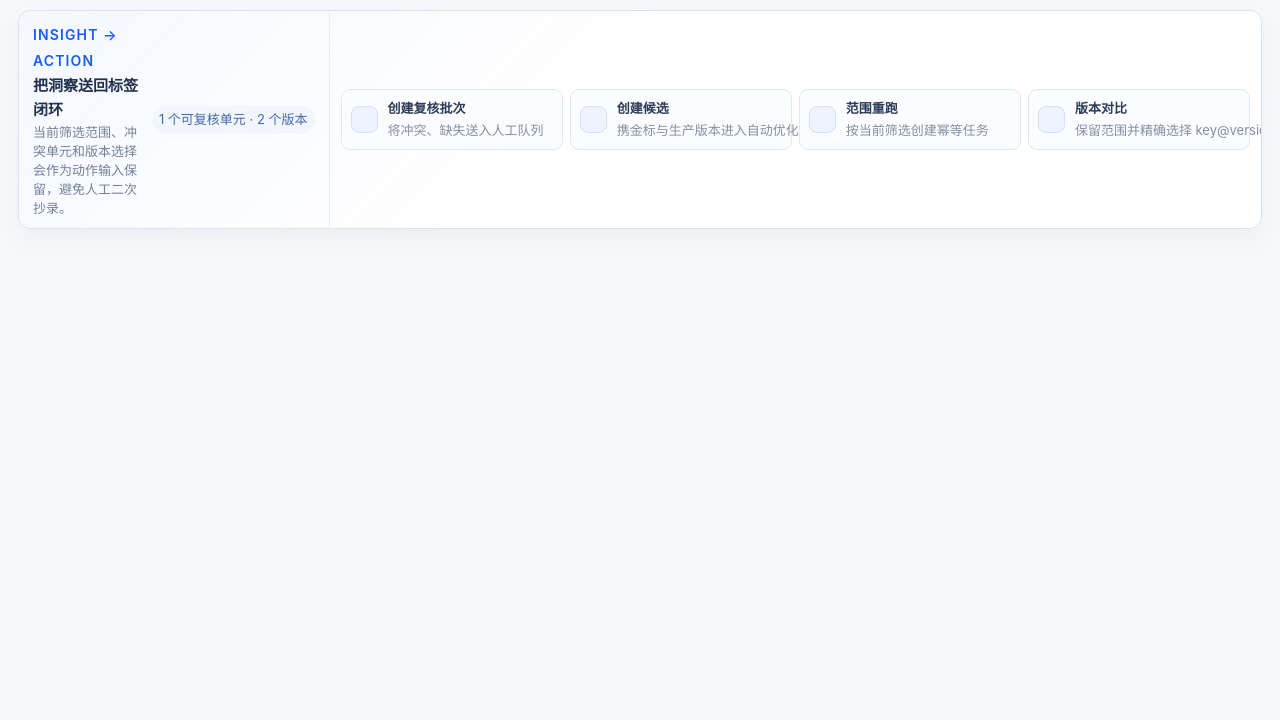
Scenario: GovernanceActions › routes candidate creation through the governed optimizer and keeps version comparison scope
The width and height of the screenshot is (1280, 720).
Click the button "版本对比 保留范围并精确选择 key@version". click: coordinates (1139, 120)
box: [1028,89,1250,150]
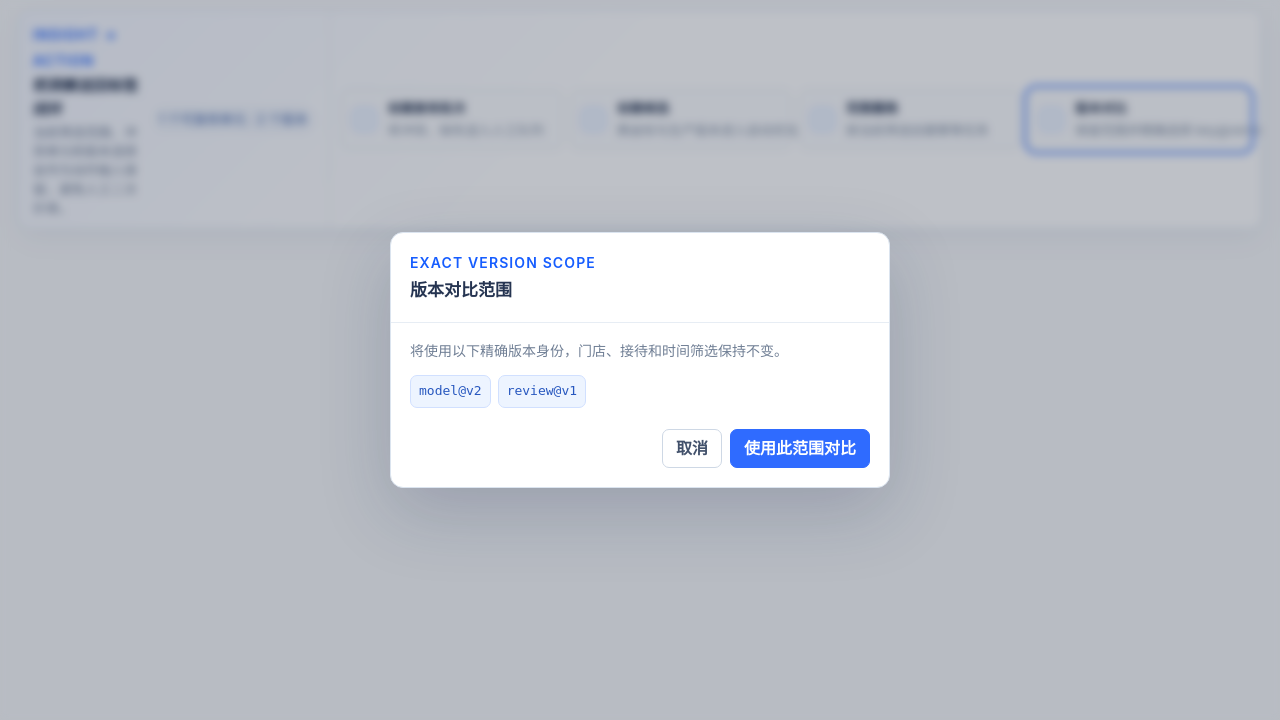
Now the dialog "版本对比范围" shows "model@v2", box [419,383,482,398]
Now the dialog "版本对比范围" shows "review@v1", box [507,383,577,398]
